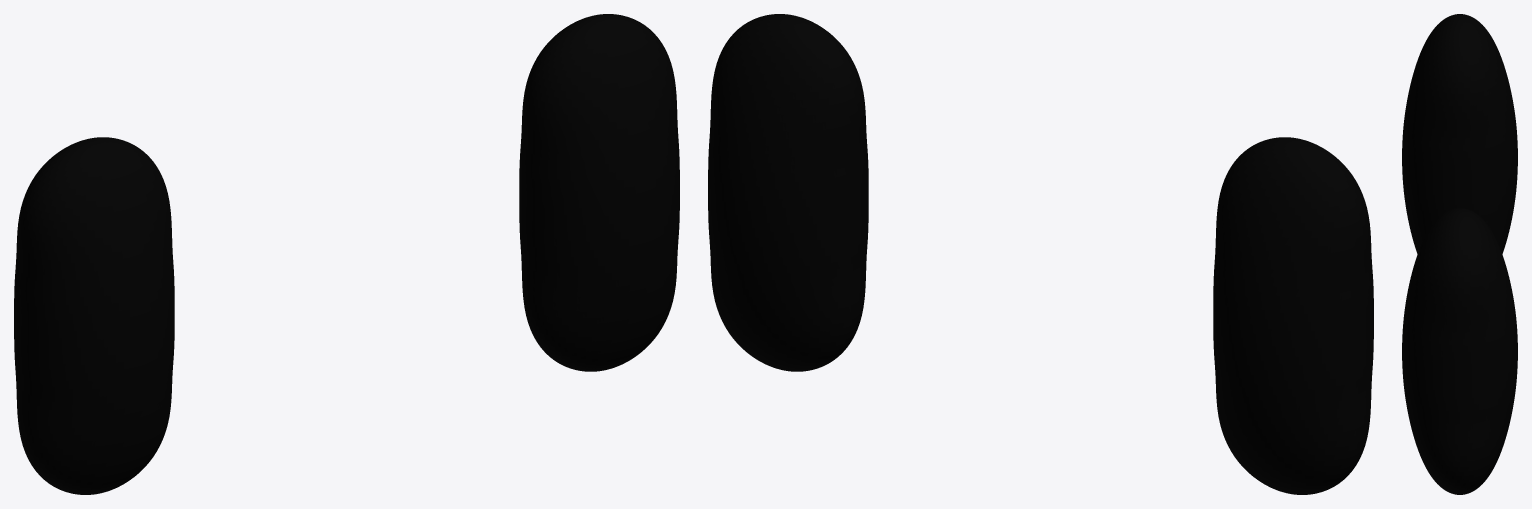
The model's file is SubTool-3-16593159.OBJ.
3 views of the same model, side by side, from view 1: azimuth 30°, elevation 25°; view 2: azimuth 150°, elevation 25°; view 3: azimuth 270°, elevation 25° (orthographic). The views are drawn at different scales.
Parts seen in each view (by area): view 1: Group18940; view 2: Group18940; view 3: Group18940.
Part boxes in pixels (x1,y1,x2,y2): Group18940: (14, 14, 679, 494); Group18940: (708, 14, 1373, 494); Group18940: (1402, 14, 1517, 494).
Bounding box in the file's own units: 0.7096 × 0.3664 × 0.1397.
Materials: 1 (1 with a texture image).
